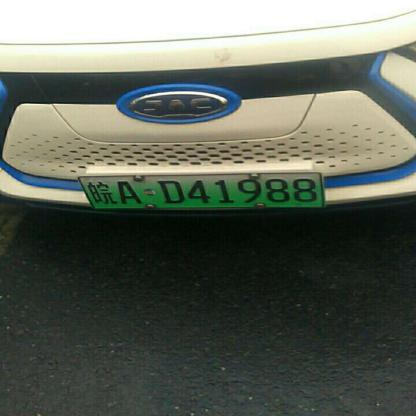lp: (78, 171, 324, 208)
